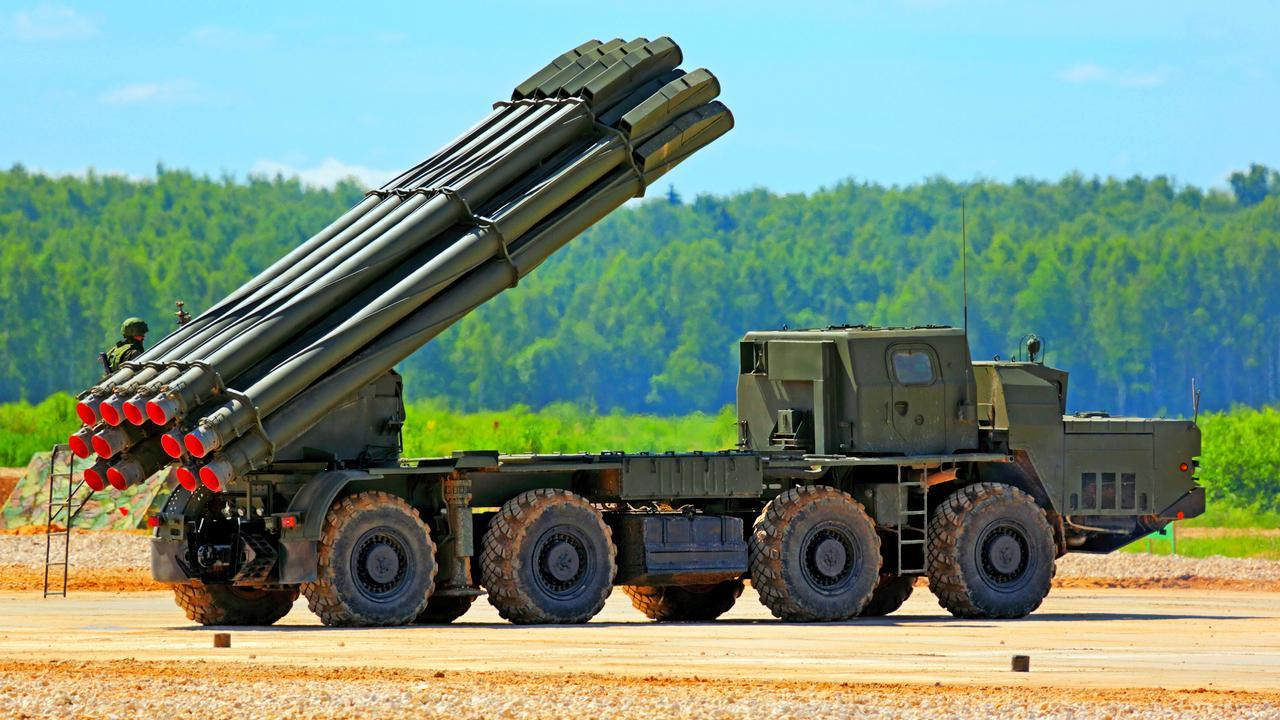rszo: (72, 5, 1232, 659)
